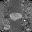people: (10, 12, 22, 22)
